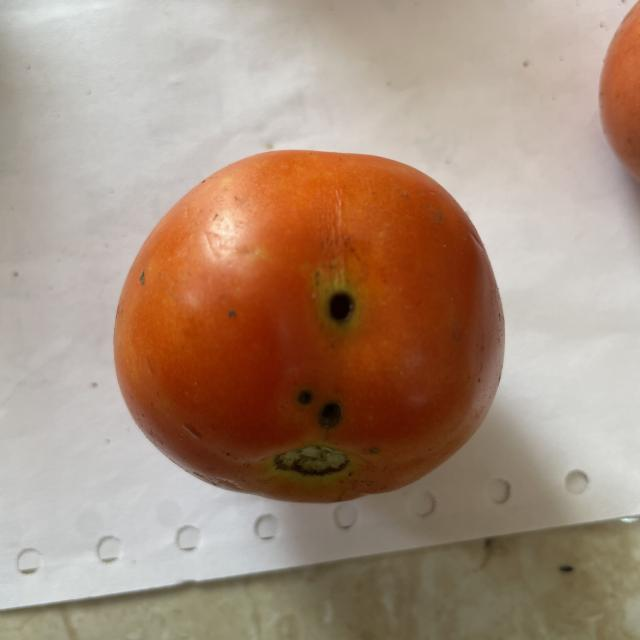fruitworm_bore: (289, 380, 351, 437), (323, 284, 367, 329)
